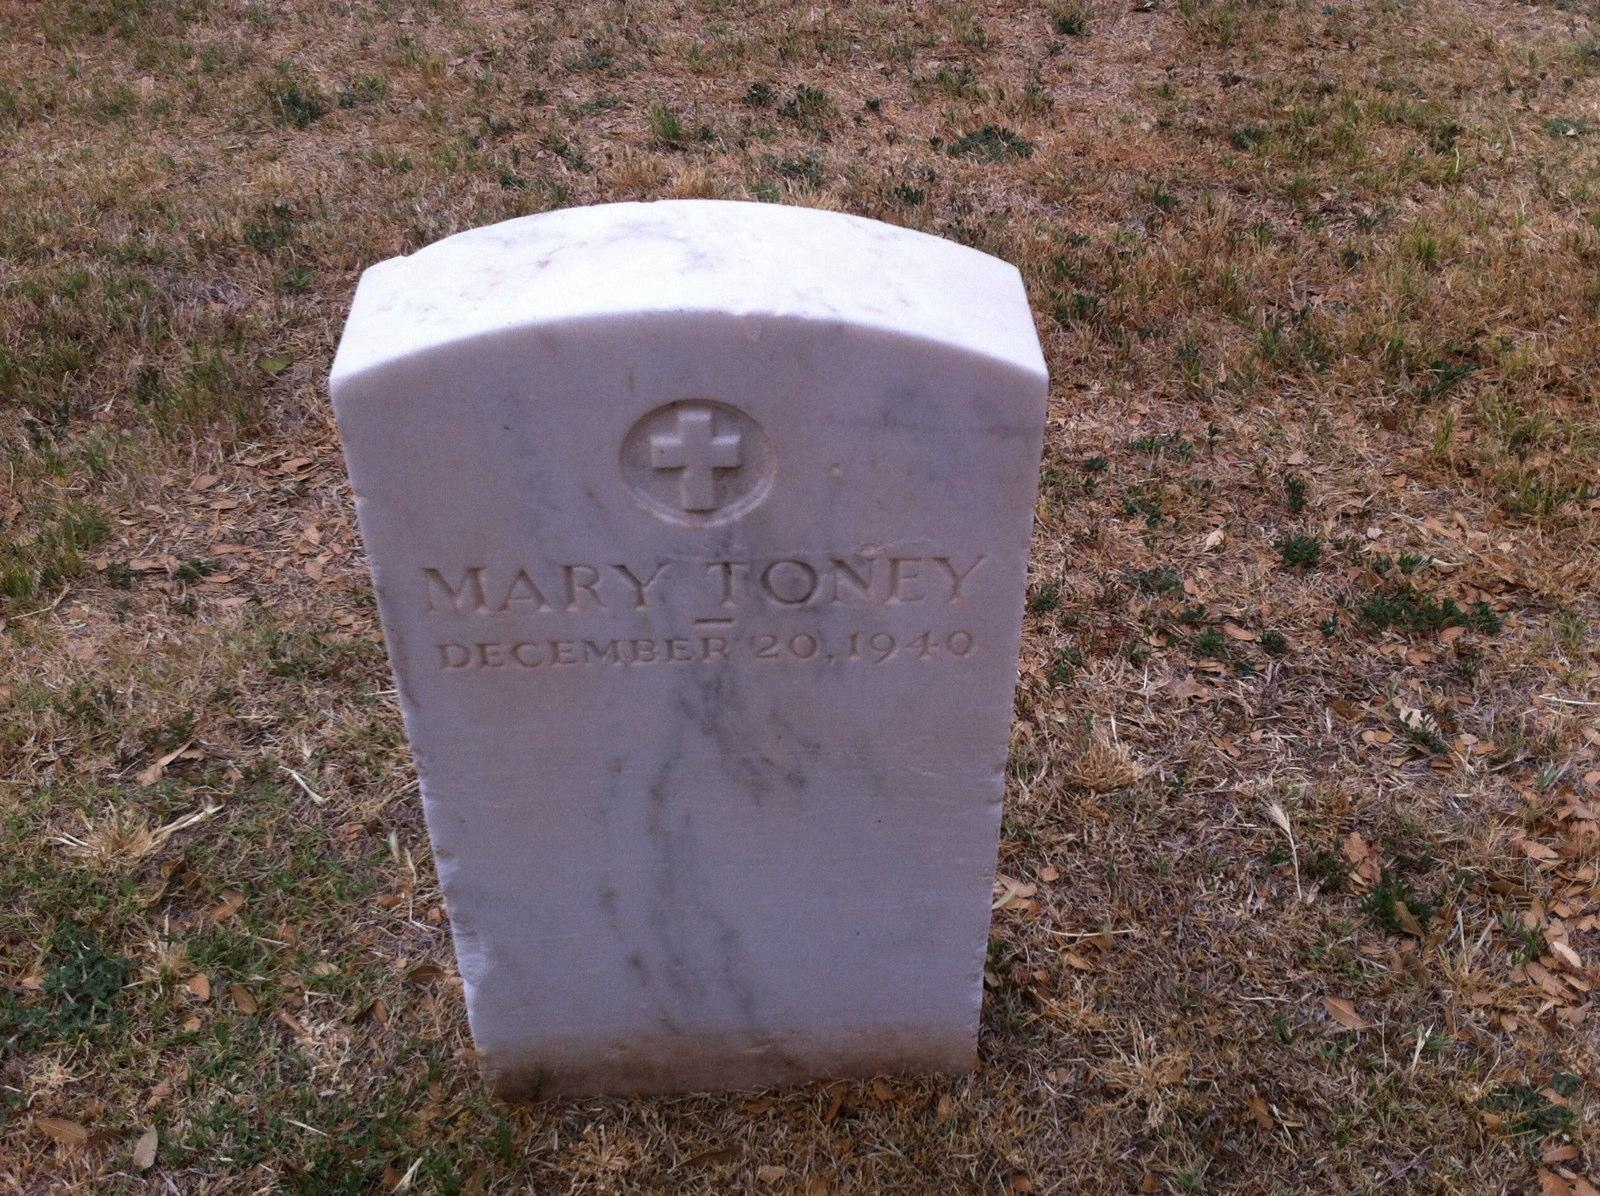military: (290, 188, 1049, 1111)
